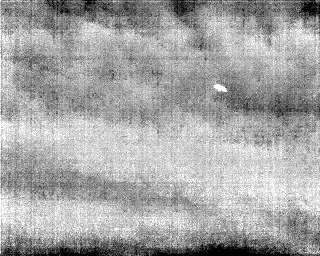BIRD: (212, 81, 230, 96)
